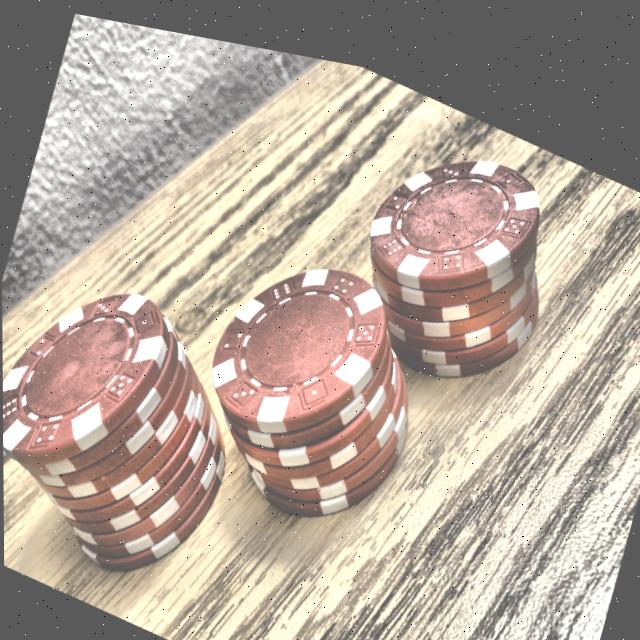Chip: (158, 188, 457, 561), (1, 231, 277, 621), (321, 72, 604, 441)
